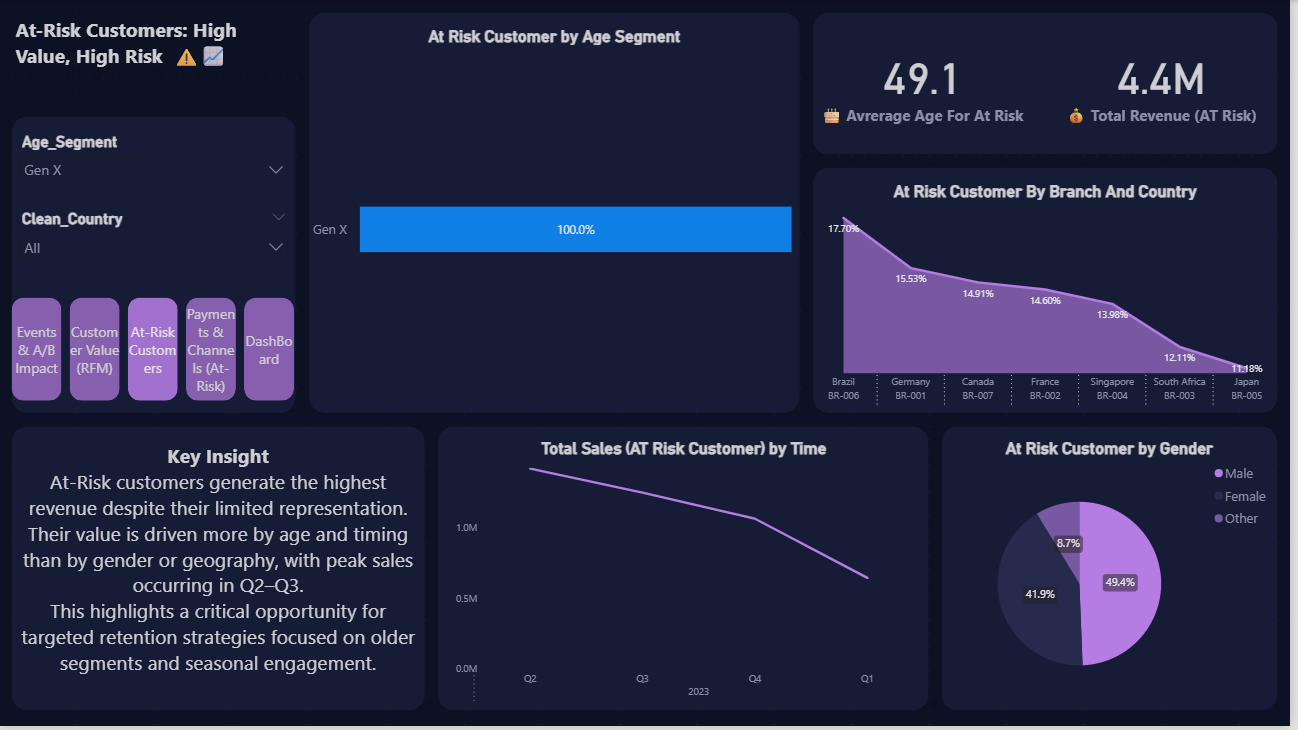

This screenshot's page, from the dashboard's own definition file:
{"tool":"powerbi","page":{"name":"At-Risk Customers","canvas":[1600,900],"ordinal":2},"visuals":[{"type":"shape","box":[16,528,512,352],"z":0},{"type":"shape","box":[544,528,608,352],"z":1000},{"type":"shape","box":[1008,208,576,304],"z":2000},{"type":"shape","box":[384,16,608,496],"z":3000},{"type":"shape","box":[1168,528,416,352],"z":4000},{"type":"shape","box":[1008,16,576,176],"z":5000},{"type":"pieChart","fields":{"Category":["arpand_ecommerce_dataset.Gender"],"Y":["Measure Table.At Risk Customer"]},"box":[1168,544,416,336],"z":6000},{"type":"areaChart","title":"At Risk Customer By Branch And Country","fields":{"Category":["arpand_ecommerce_dataset.BranchID","arpand_ecommerce_dataset.Clean_Country"],"Y":["Divide(Measure Table.At Risk Customer, ScopedEval(Measure Table.At Risk Customer, []))"]},"box":[1008,224,576,288],"z":7000},{"type":"card","fields":{"Values":["Measure Table.Avg Age For At Risk"]},"box":[1008,16,272,176],"z":8000},{"type":"lineChart","title":"Total Sales (AT Risk Customer) by Time","fields":{"Y":["Measure Table.Sum Sales (AT Risk Customer)"],"Category":["Date Table.Year Hierarchy.Year","Date Table.Year Hierarchy.Quarter","Date Table.Year Hierarchy.Month","Date Table.Year Hierarchy.Day"]},"box":[560,544,576,336],"z":9000},{"type":"card","fields":{"Values":["Measure Table.Sum Sales (AT Risk Customer)"]},"box":[1296,16,288,176],"z":10000},{"type":"funnel","title":"At Risk Customer by Age Segment","fields":{"Category":["arpand_ecommerce_dataset.Age_Segment"],"Y":["Divide(Measure Table.At Risk Customer, ScopedEval(Measure Table.At Risk Customer, []))"]},"box":[384,32,608,480],"z":11000},{"type":"textbox","box":[16,544,512,336],"z":12000},{"type":"shape","box":[16,144,352,368],"z":13000},{"type":"slicer","fields":{"Values":["arpand_ecommerce_dataset.Age_Segment"]},"box":[16,160,352,80],"z":14000},{"type":"slicer","fields":{"Values":["arpand_ecommerce_dataset.Clean_Country"]},"box":[16,256,352,80],"z":15000},{"type":"pageNavigator","box":[16,368,352,128],"z":16000},{"type":"textbox","box":[16,16,352,96],"z":17000}]}

Visuals, with their boxes in screenshot pixels (x1, y1, x2, y2), scaled from the page's 1600x900 canvas onto the 1298x730 screenshot:
shape: [x1=13, y1=428, x2=428, y2=714]
shape: [x1=441, y1=428, x2=935, y2=714]
shape: [x1=818, y1=169, x2=1285, y2=415]
shape: [x1=312, y1=13, x2=805, y2=415]
shape: [x1=948, y1=428, x2=1285, y2=714]
shape: [x1=818, y1=13, x2=1285, y2=156]
pieChart - arpand_ecommerce_dataset.Gender x Measure Table.At Risk Customer: [x1=948, y1=441, x2=1285, y2=714]
"At Risk Customer By Branch And Country" areaChart: [x1=818, y1=182, x2=1285, y2=415]
card - Measure Table.Avg Age For At Risk: [x1=818, y1=13, x2=1038, y2=156]
"Total Sales (AT Risk Customer) by Time" lineChart: [x1=454, y1=441, x2=922, y2=714]
card - Measure Table.Sum Sales (AT Risk Customer): [x1=1051, y1=13, x2=1285, y2=156]
"At Risk Customer by Age Segment" funnel: [x1=312, y1=26, x2=805, y2=415]
textbox: [x1=13, y1=441, x2=428, y2=714]
shape: [x1=13, y1=117, x2=299, y2=415]
slicer - arpand_ecommerce_dataset.Age_Segment: [x1=13, y1=130, x2=299, y2=195]
slicer - arpand_ecommerce_dataset.Clean_Country: [x1=13, y1=208, x2=299, y2=273]
pageNavigator: [x1=13, y1=298, x2=299, y2=402]
textbox: [x1=13, y1=13, x2=299, y2=91]
